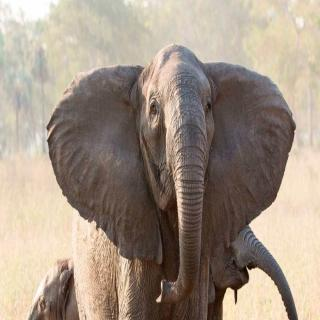Elephant: (45, 39, 300, 320)
